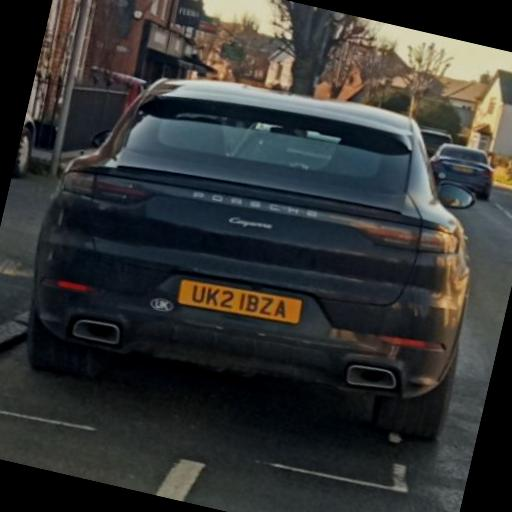numberplates: (178, 280, 303, 324), (453, 166, 472, 174)
